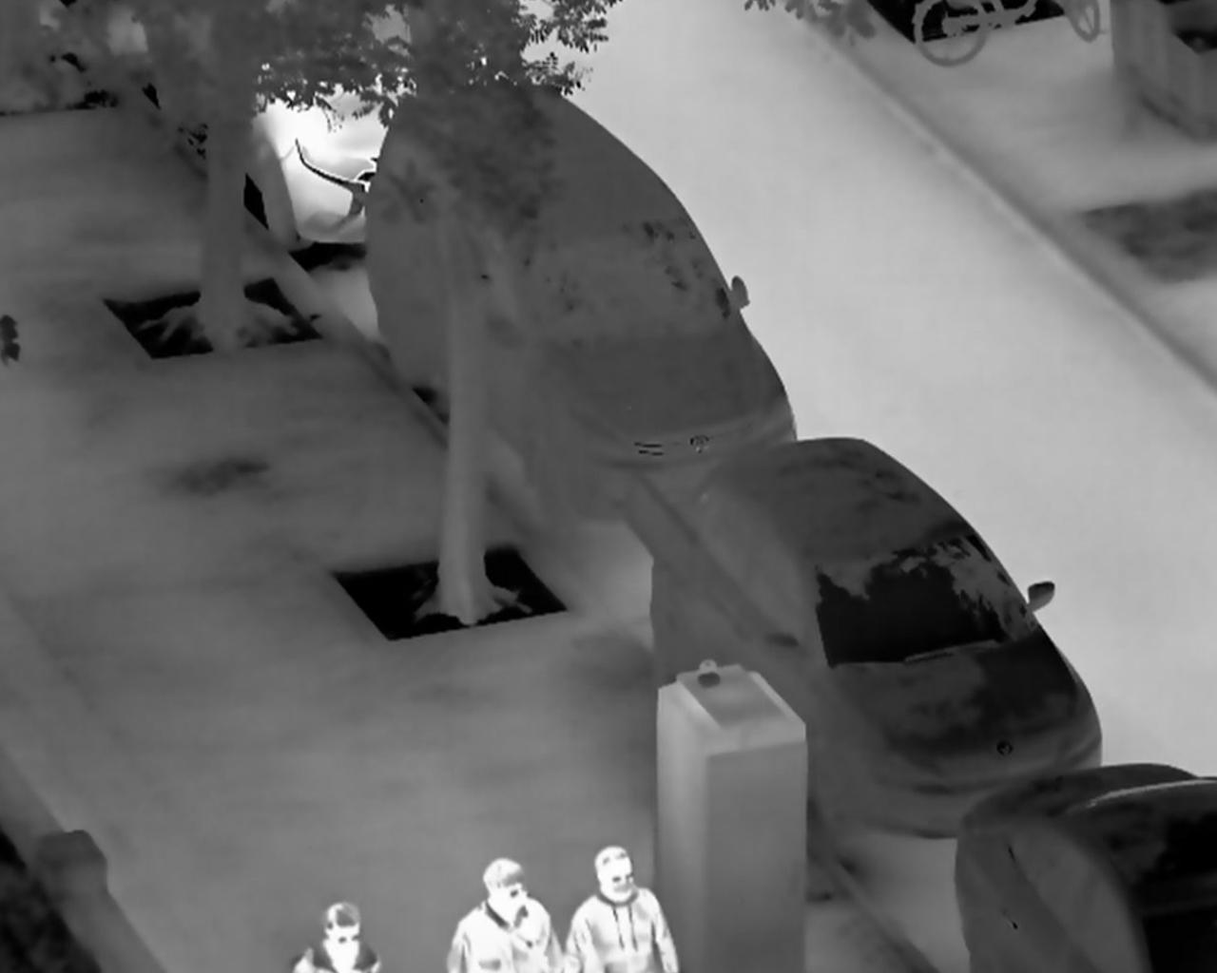person: (555, 847, 691, 973), (444, 851, 565, 973), (284, 895, 398, 973)
